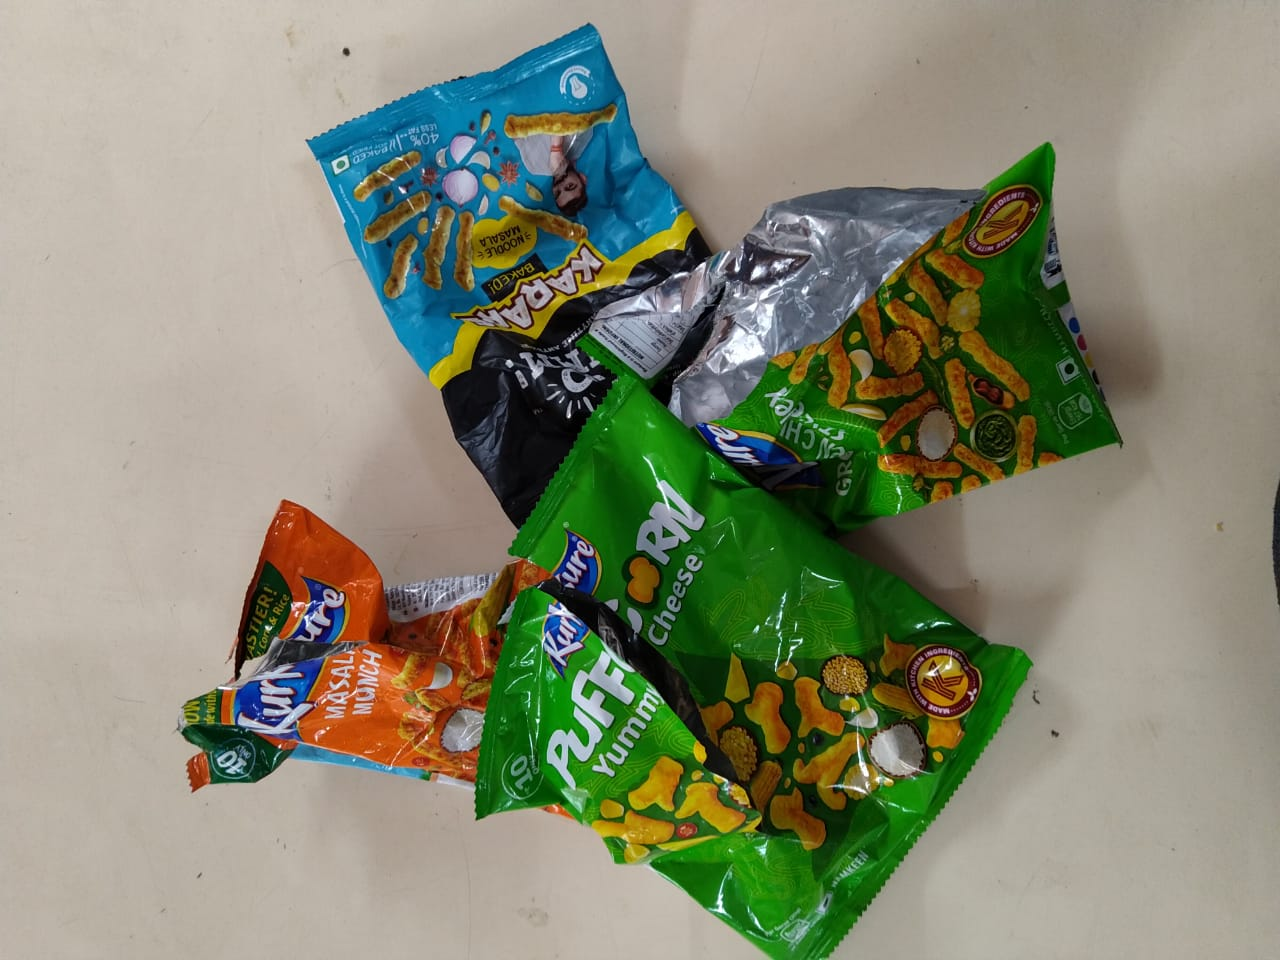kurkure: (661, 351, 827, 461), (253, 557, 337, 733), (663, 401, 813, 491), (521, 519, 603, 681), (239, 645, 329, 733), (273, 565, 351, 647), (543, 557, 601, 633)
tooyumm: (489, 311, 657, 403), (535, 303, 685, 383)
wrapper: (289, 17, 767, 501), (465, 449, 1049, 809), (609, 155, 1129, 465), (183, 529, 557, 791)
